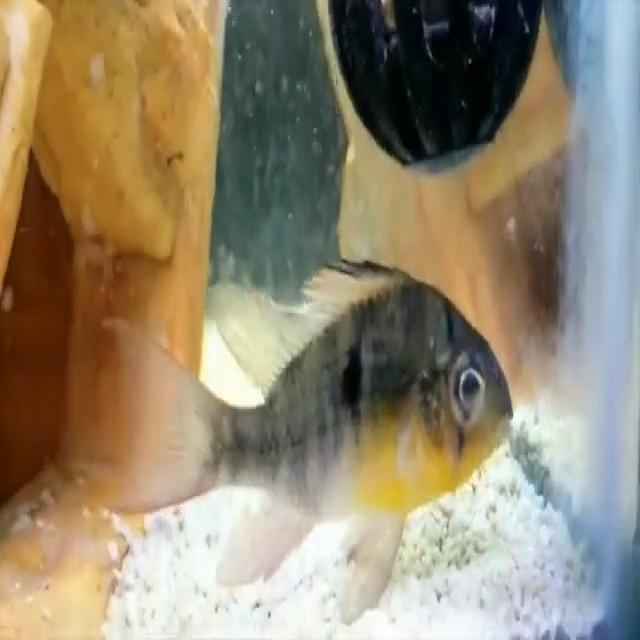fish: (83, 262, 519, 630)
